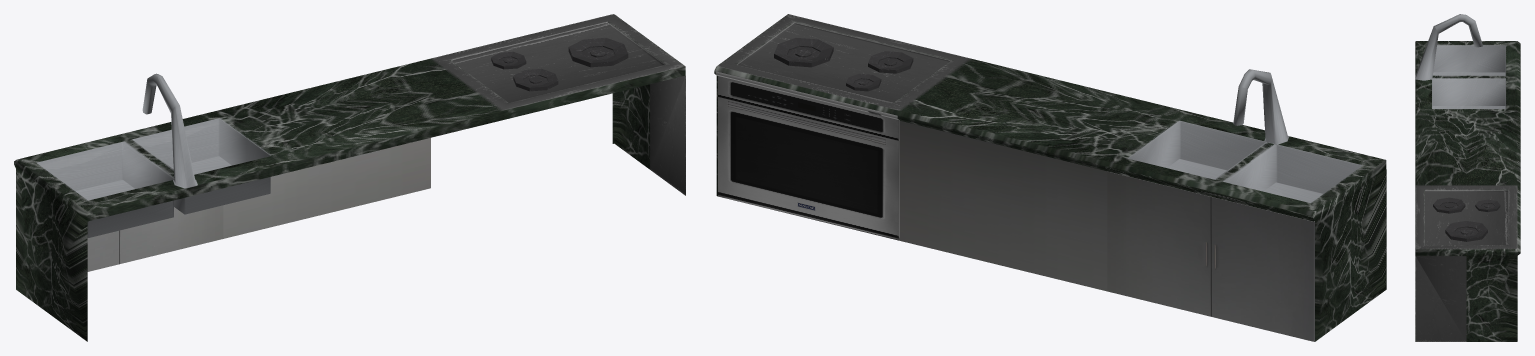
The model's file is cocina.fbx.
The picture shows the model from 3 angles, left to right: view 1: azimuth 30°, elevation 25°; view 2: azimuth 150°, elevation 25°; view 3: azimuth 270°, elevation 25°; orthographic projection. The views are drawn at different scales.
Visible parts, largest first — view 1: encimera_baja, fogones; view 2: encimera_baja, fogones; view 3: encimera_baja, fogones.
Part boxes in pixels (left/top/right/bottom): encimera_baja: left=14, top=14, right=685, bottom=341; fogones: left=491, top=38, right=628, bottom=91; encimera_baja: left=714, top=14, right=1386, bottom=341; fogones: left=774, top=38, right=913, bottom=91; encimera_baja: left=1415, top=14, right=1520, bottom=341; fogones: left=1433, top=197, right=1500, bottom=241.
Size of the model in its own units: 964 by 335 by 206.
